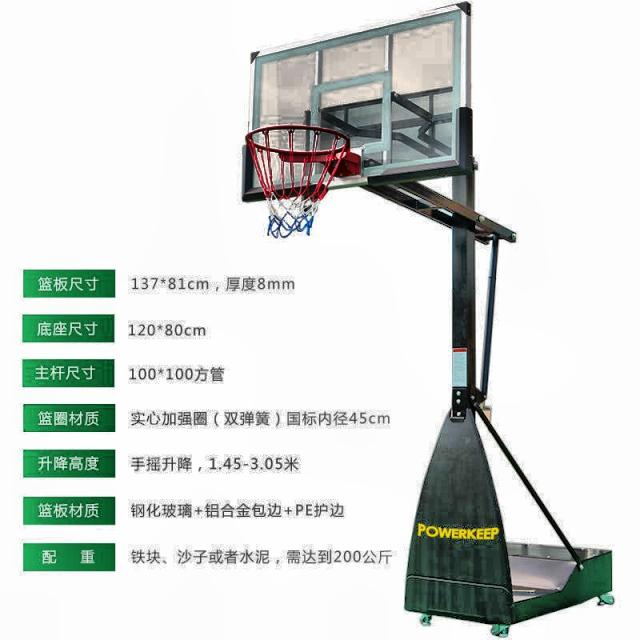rim: (248, 127, 350, 234)
